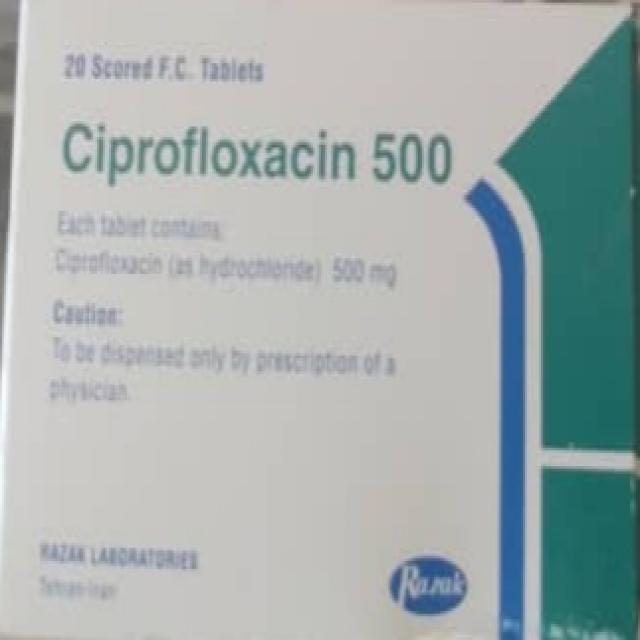drug-name: (54, 120, 460, 197)
